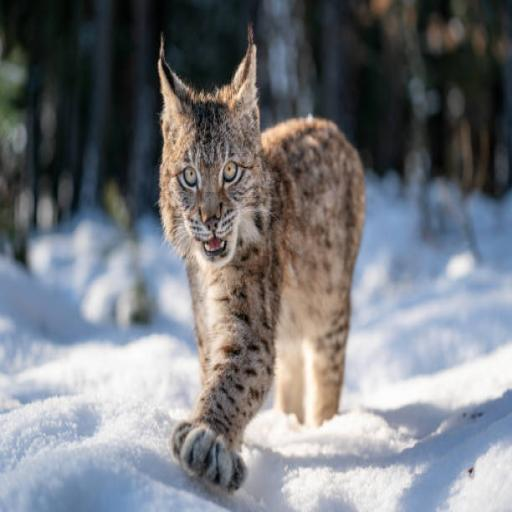lynx: (159, 30, 364, 489)
